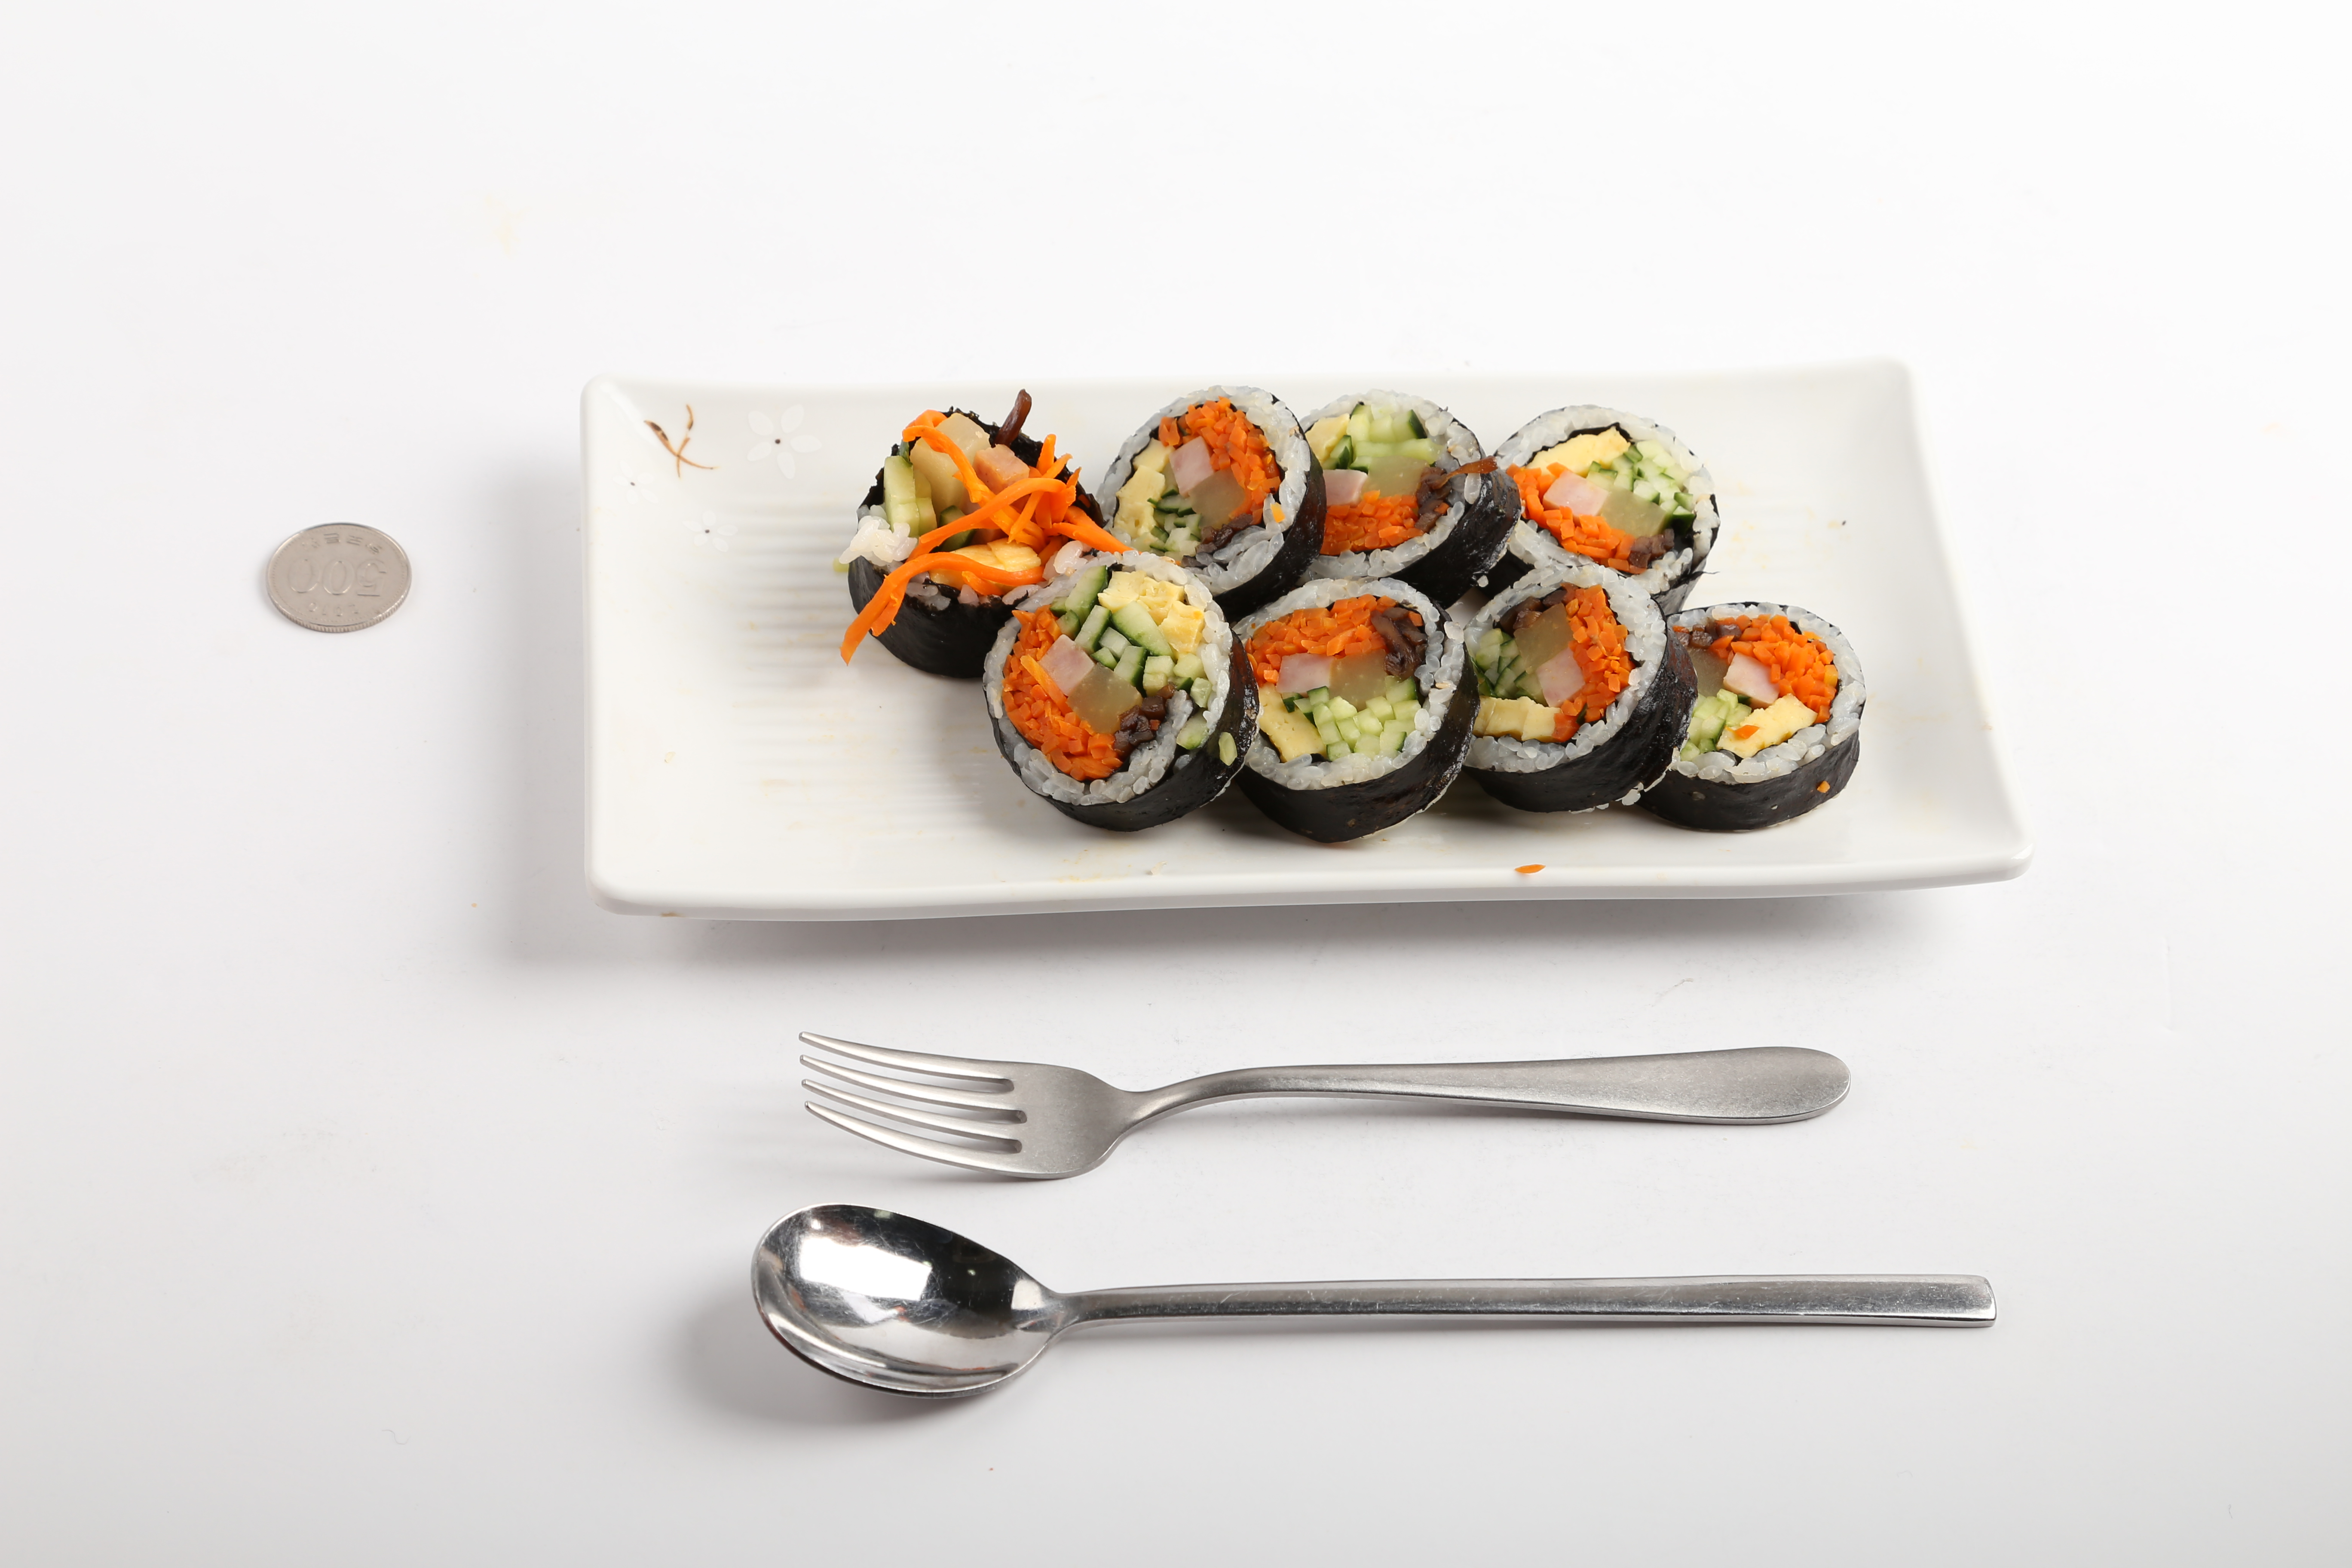dish: (570, 353, 2030, 924)
ref_coin: (252, 516, 416, 639)
ref_fork: (796, 1015, 1204, 1185)
ref_spoon: (749, 1199, 1151, 1403)
김밥: (845, 383, 1864, 847)
